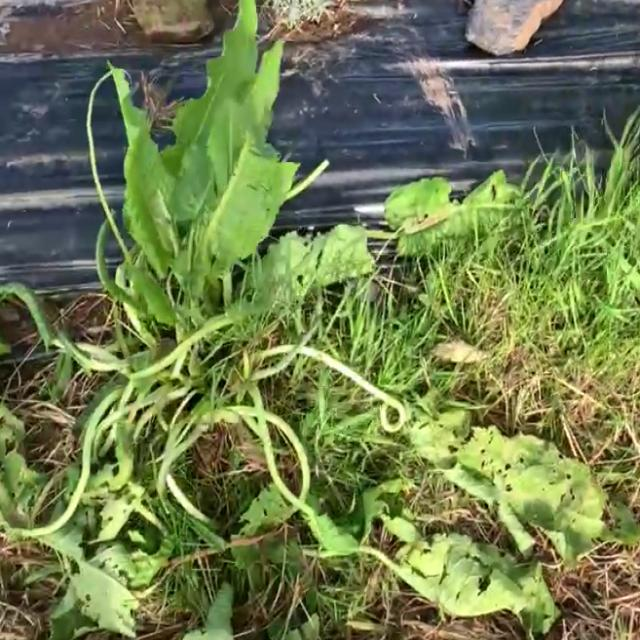organic waste: (0, 12, 547, 635), (237, 281, 640, 639), (70, 2, 358, 348), (11, 324, 312, 640)
